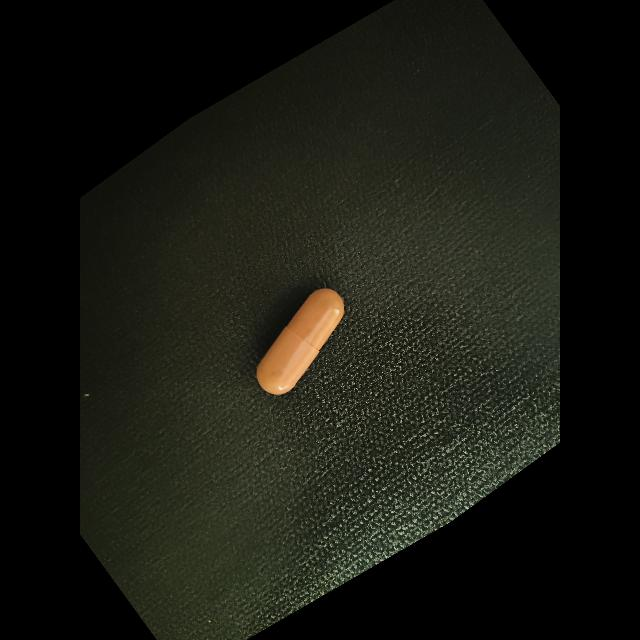Intact Capsule: (256, 288, 344, 394)
